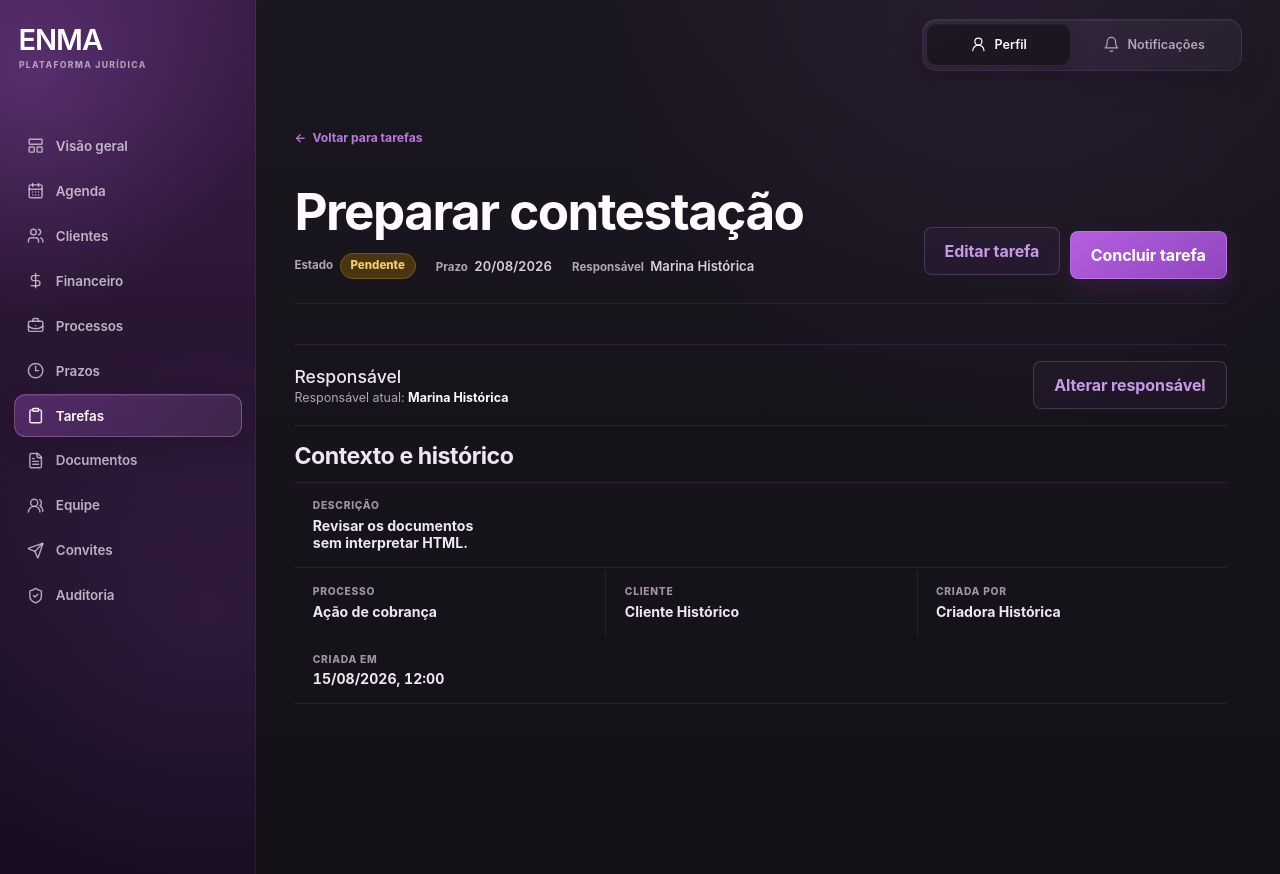
Test case: Tasks D2 detail flow › TaskEdit_Status409_ShowsSafeFeedbackAndRefetches
This screenshot has width=1280, height=874.
Expected: the heading "Preparar contestação" is shown, [294,185,804,238]
Click the button "Editar tarefa" at (992, 251), box [924,227,1060,275]
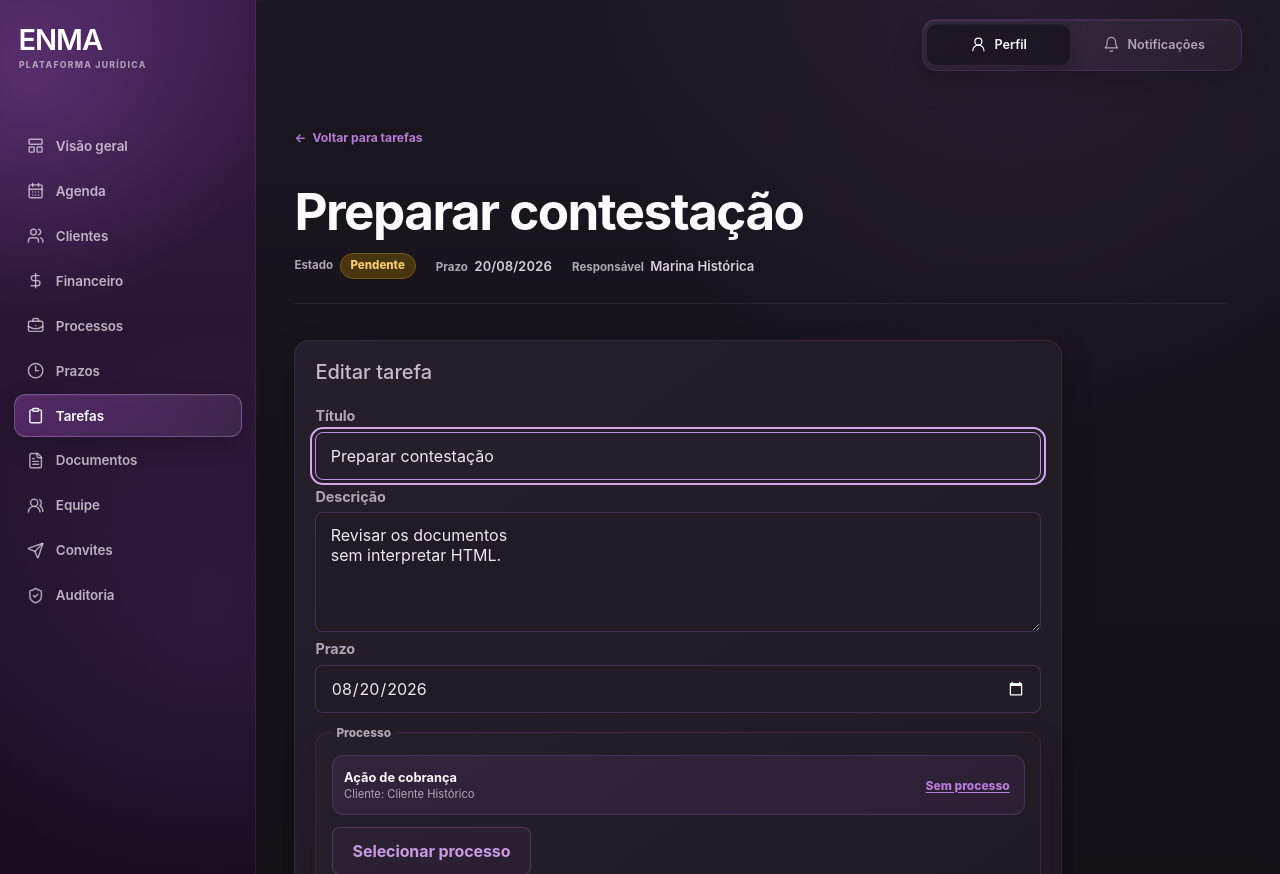
Replace the text in the field labelled "Título" with "Mudança não confirmada" at (678, 456), box [315,432,1041,480]
(page scrolled)
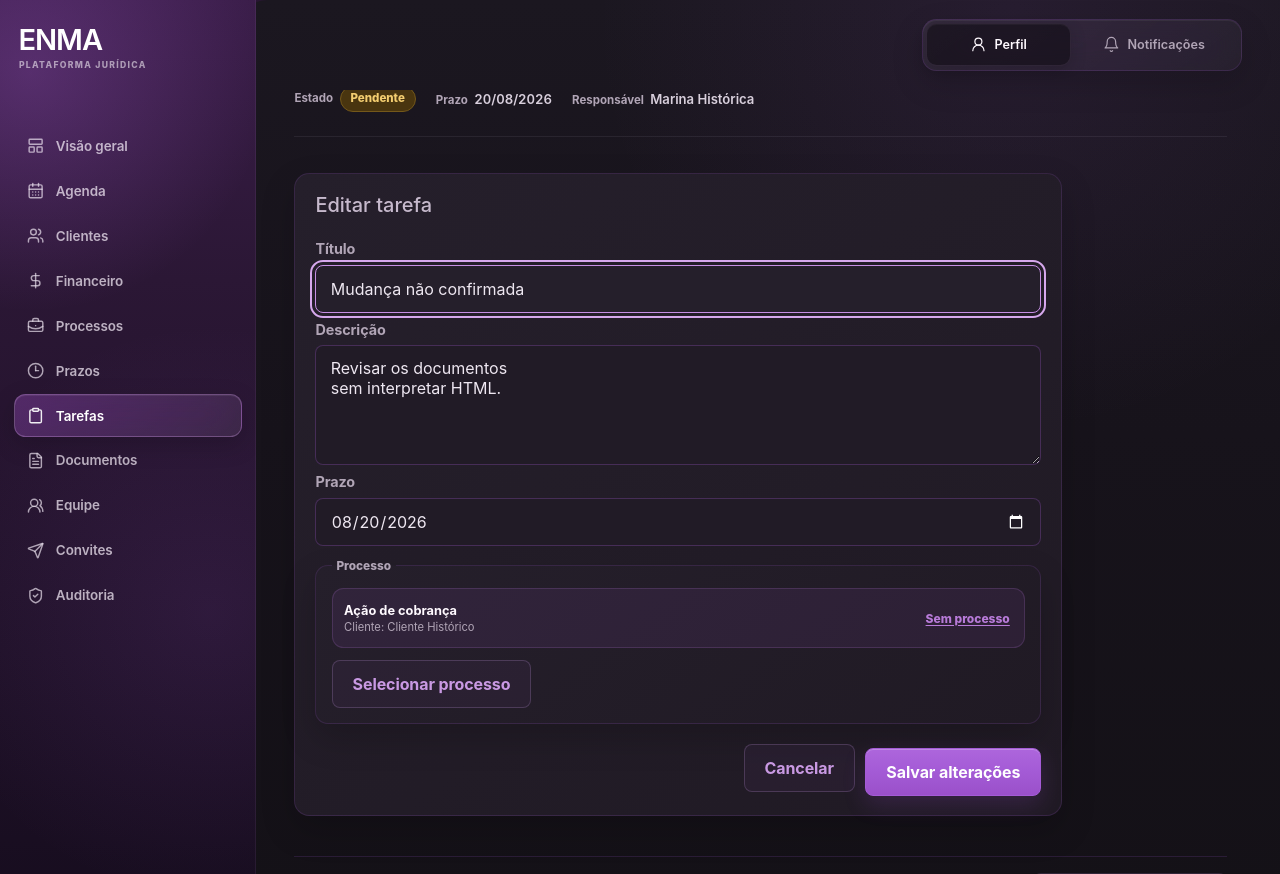
Submit the form named "Salvar alterações", box [294,173,1062,816]
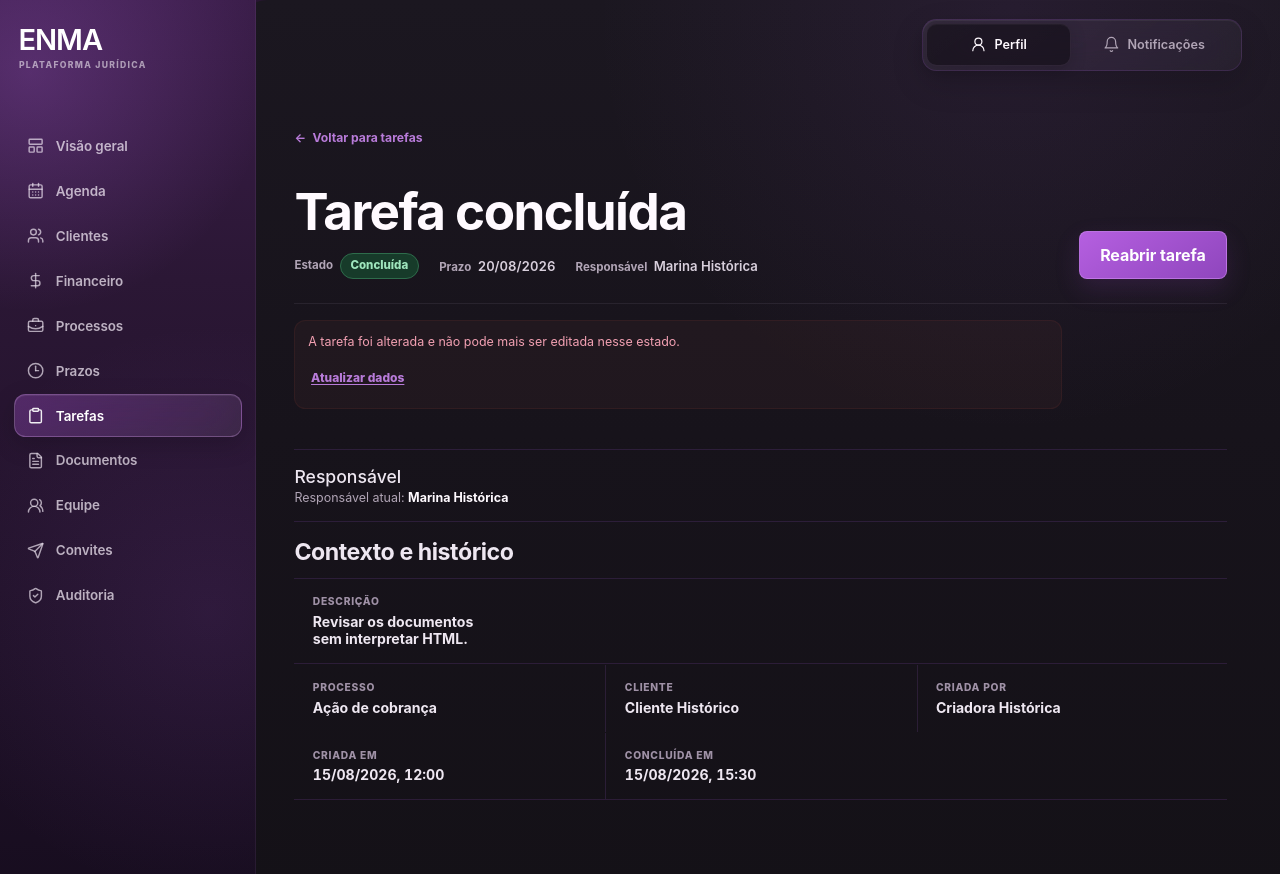
Expected: the message does not show "private domain detail", [308,333,680,352]
Result: the message reads "A tarefa foi alterada e não pode mais ser editada nesse estado." at [308,334,680,349]
